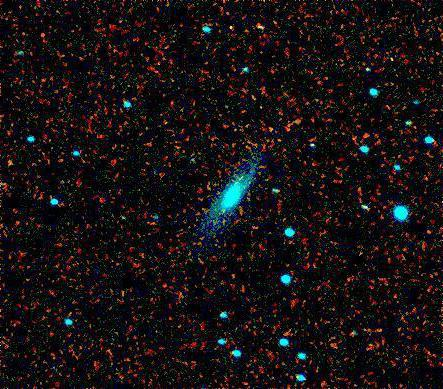star: (378, 42, 408, 72)
